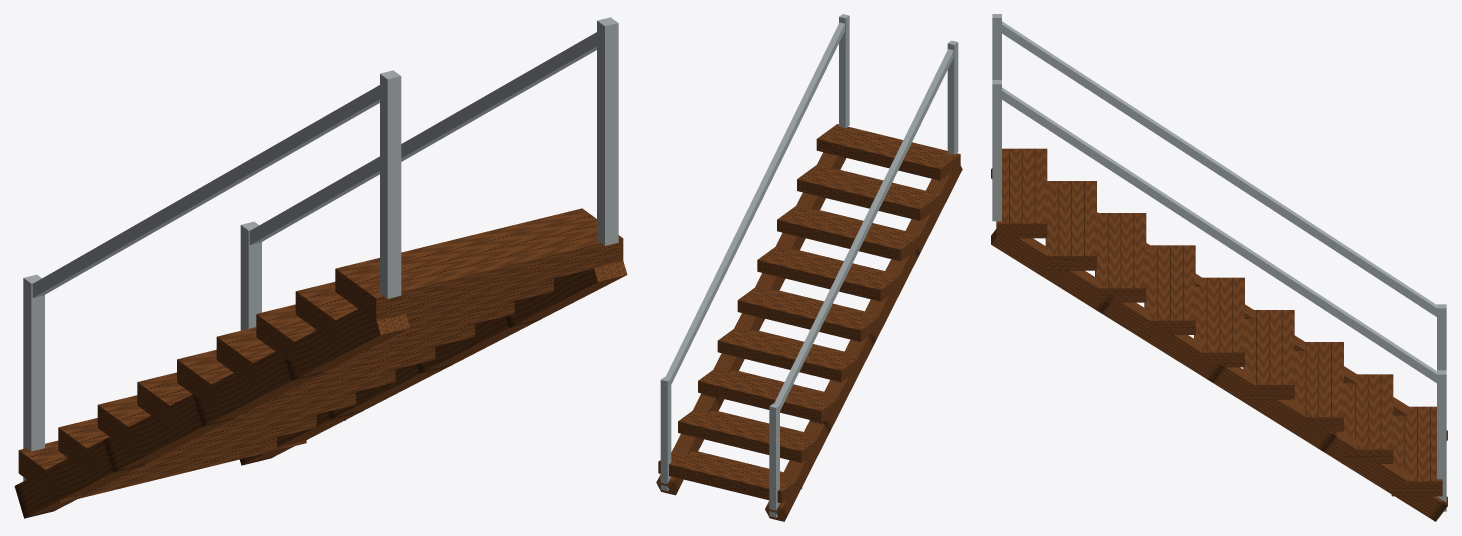
Rendered from rural-scavenging-settlements-cellar-entry-stair-5e2a4fe4__26529.glb.
3 views of the same model, side by side, from view 1: azimuth 30°, elevation 25°; view 2: azimuth 150°, elevation 25°; view 3: azimuth 270°, elevation 25° (orthographic). The views are drawn at different scales.
Visible parts, largest first — view 1: cellar-entry-stair; view 2: cellar-entry-stair; view 3: cellar-entry-stair.
Part boxes in pixels (x1,y1,x2,y2): cellar-entry-stair: [14, 17, 627, 518]; cellar-entry-stair: [656, 14, 962, 521]; cellar-entry-stair: [991, 14, 1447, 521].
Size of the model in its own units: 1 by 2.7 by 2.57.
2 materials, 1 textured.
